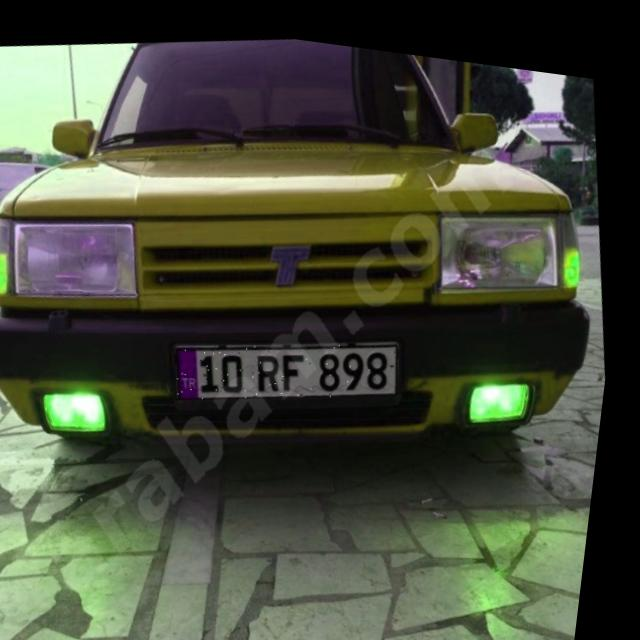license_plate: (177, 308, 412, 418)
